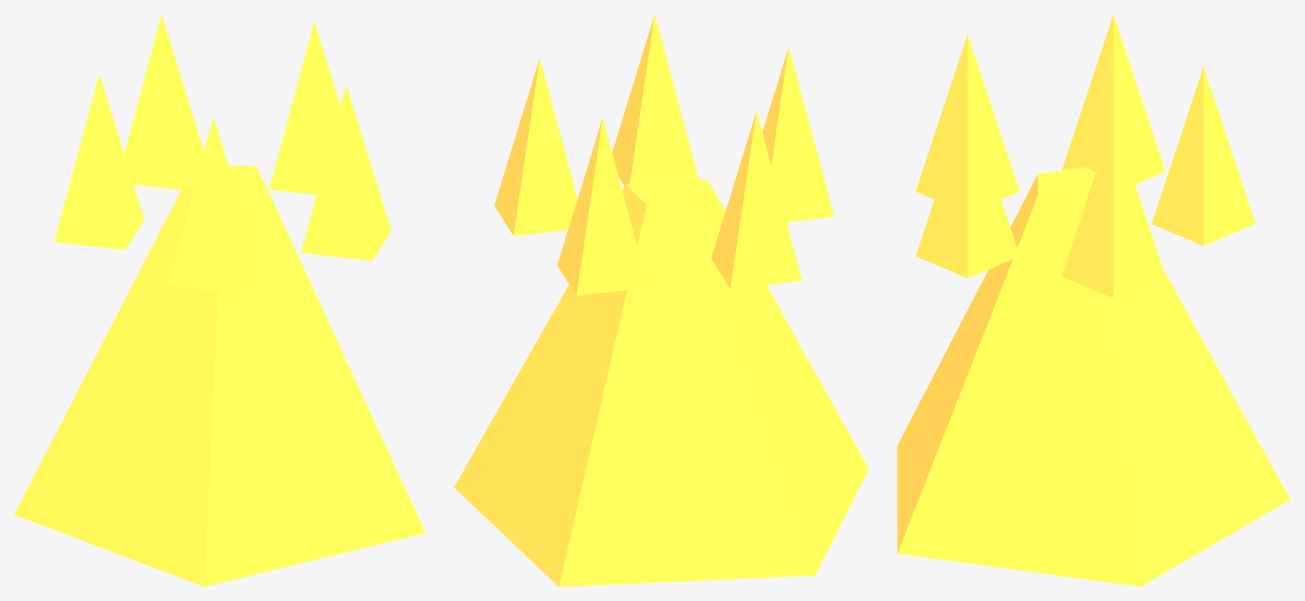
The model's file is enemy_fire.glb.
3 renders of one model, left to right at view 1: azimuth 30°, elevation 25°; view 2: azimuth 150°, elevation 25°; view 3: azimuth 270°, elevation 25°, orthographic.
Visible parts, largest first — view 1: enemy_fire; view 2: enemy_fire; view 3: enemy_fire.
Boxes of the visible parts, <box> form: enemy_fire: <box>14,14,425,586</box>; enemy_fire: <box>454,14,868,586</box>; enemy_fire: <box>897,14,1290,586</box>.
Size of the model in its own units: 0.4755 by 0.55 by 0.4523.
